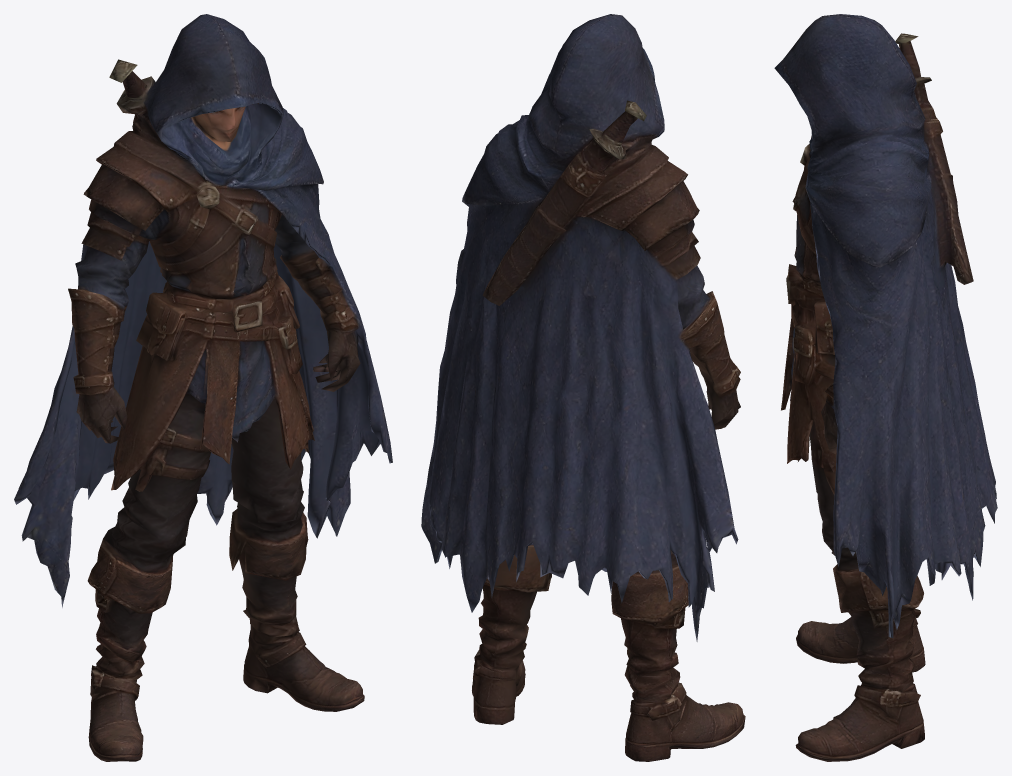
File: rogue.glb
3 views of the same model, side by side, from view 1: azimuth 30°, elevation 25°; view 2: azimuth 150°, elevation 25°; view 3: azimuth 270°, elevation 25° (orthographic). The views are drawn at different scales.
Parts seen in each view (by area): view 1: tripo_node_c2602edf-98e0-490e-962f-851f849fde1b; view 2: tripo_node_c2602edf-98e0-490e-962f-851f849fde1b; view 3: tripo_node_c2602edf-98e0-490e-962f-851f849fde1b.
Boxes of the visible parts, <box> form: tripo_node_c2602edf-98e0-490e-962f-851f849fde1b: <box>14,14,392,761</box>; tripo_node_c2602edf-98e0-490e-962f-851f849fde1b: <box>421,14,745,761</box>; tripo_node_c2602edf-98e0-490e-962f-851f849fde1b: <box>774,14,997,761</box>.
Size of the model in its own units: 0.5099 by 1 by 0.2945.
Materials: 1 (1 with a texture image).
